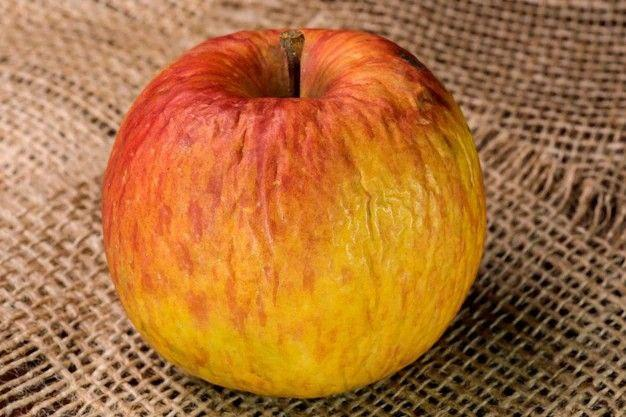Apple: (103, 31, 487, 402)
